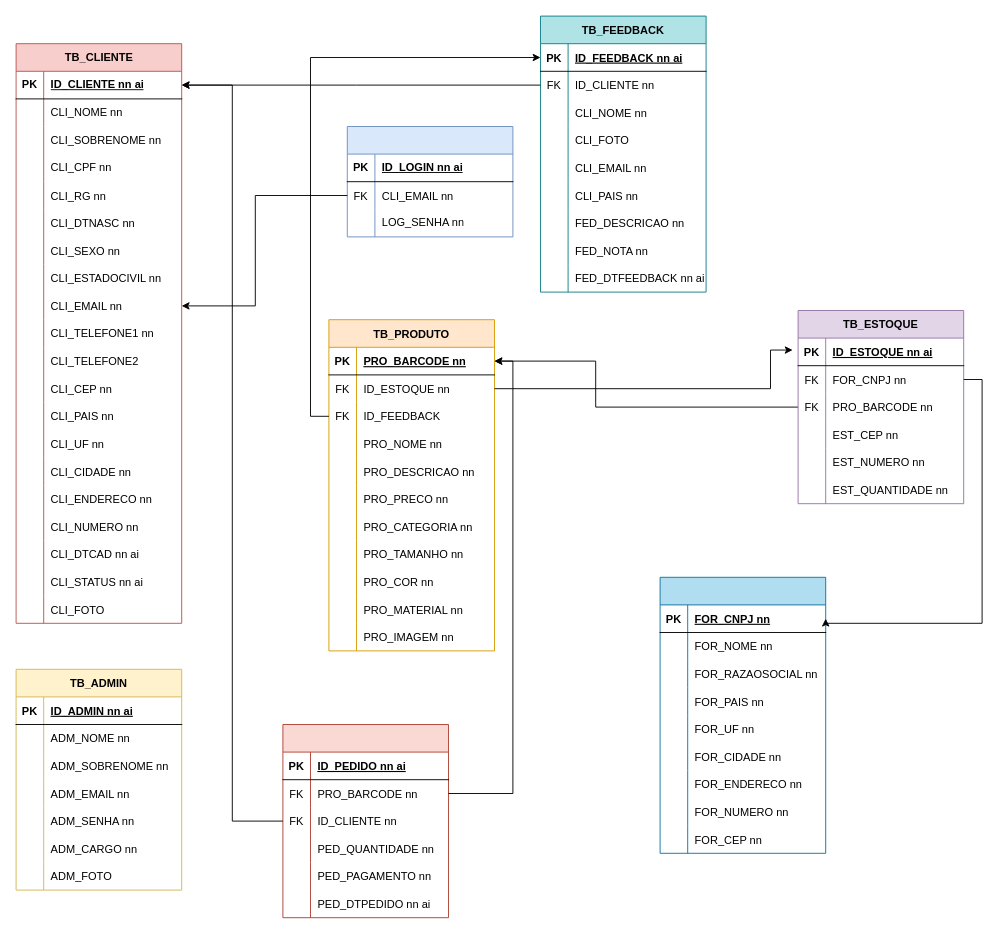
The diagram is 1006 pixels wide and 934 high, and some of its shapes have lost their labels. Each missing label, with the box of its shape:
TB_FORNECEDOR: (659, 576, 826, 853)
TB_LOGIN: (346, 126, 513, 237)
TB_PEDIDO: (282, 724, 448, 918)
